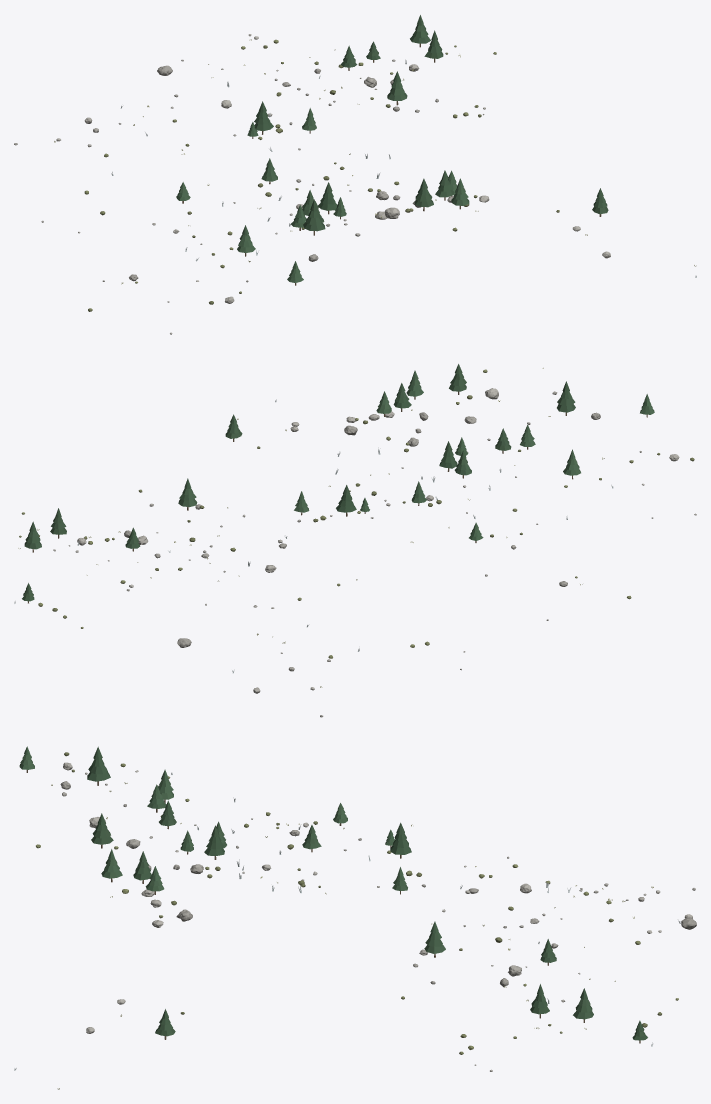
Rendered from coast_land_scatter_c09_23.glb.
3 views of the same model, one above another, from view 1: azimuth 30°, elevation 25°; view 2: azimuth 150°, elevation 25°; view 3: azimuth 270°, elevation 25° (orthographic). The views are drawn at different scales.
Parts seen in each view (by area): view 1: coast_land_scatter_c09_23; view 2: coast_land_scatter_c09_23; view 3: coast_land_scatter_c09_23.
Part boxes in pixels (bbox=[...]): coast_land_scatter_c09_23: bbox=[14, 15, 696, 334]; coast_land_scatter_c09_23: bbox=[14, 364, 696, 717]; coast_land_scatter_c09_23: bbox=[14, 746, 696, 1089].
Bounding box in the file's own units: 243 × 63.98 × 256.
